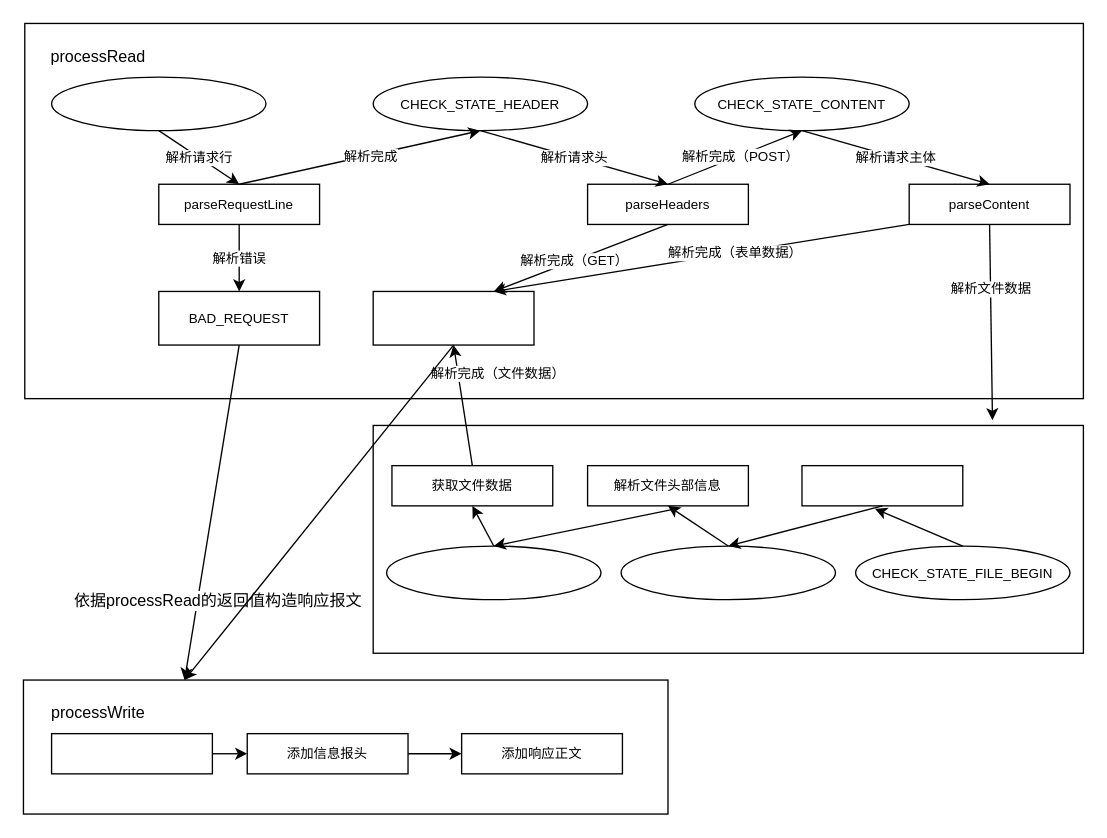
Image size: 1107x838. Some labels were removed from this diagram. The shapes that lost their labels are listed below. From the top down, each one's centre as x and y in pixels, then its label:
At (x=158, y=103): "CHECK_STATE_REQUESTLINE".
At (x=453, y=317): "GET_REQUEST".
At (x=882, y=485): "解析文件开始边界".
At (x=493, y=572): "CHECK_STATE_FILE_CONTENT".
At (x=727, y=572): "CHECK_STATE_FILE_HEAD".
At (x=131, y=753): "添加状态行".
